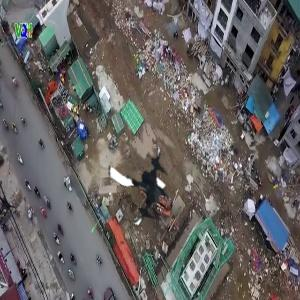drone: (97, 137, 185, 225)
